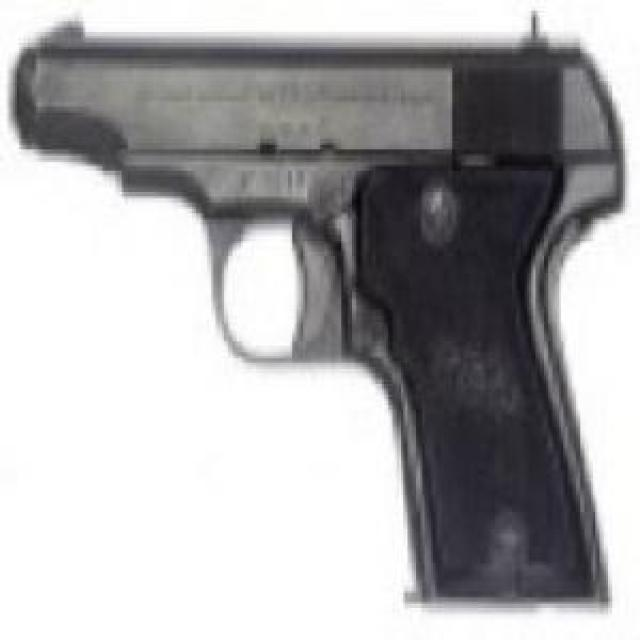pistol: (13, 6, 621, 620)
